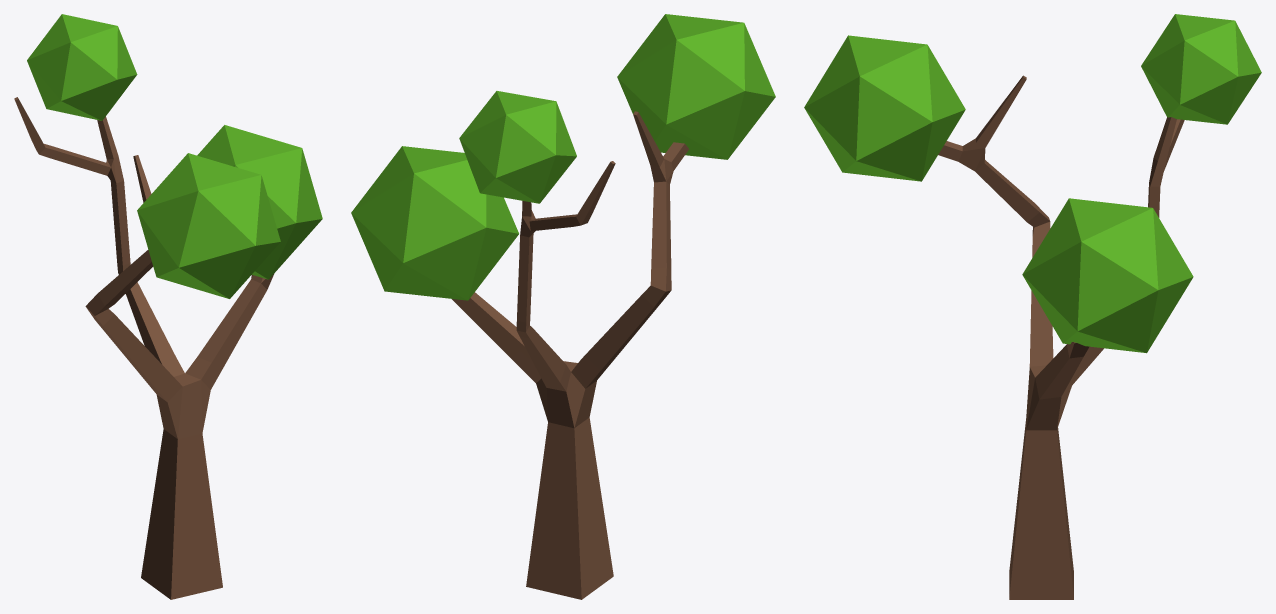
Rendered from tree 2.fbx.
3 renders of one model, left to right at view 1: azimuth 30°, elevation 25°; view 2: azimuth 150°, elevation 25°; view 3: azimuth 270°, elevation 25°, orthographic. The views are drawn at different scales.
Visible parts, largest first — view 1: tree.002; view 2: tree.002; view 3: tree.002.
Part boxes in pixels (x1,y1,x2,y2): tree.002: (14, 14, 322, 599); tree.002: (351, 14, 775, 599); tree.002: (804, 14, 1261, 599).
Size of the model in its own units: 1.17 by 2.19 by 1.65.
